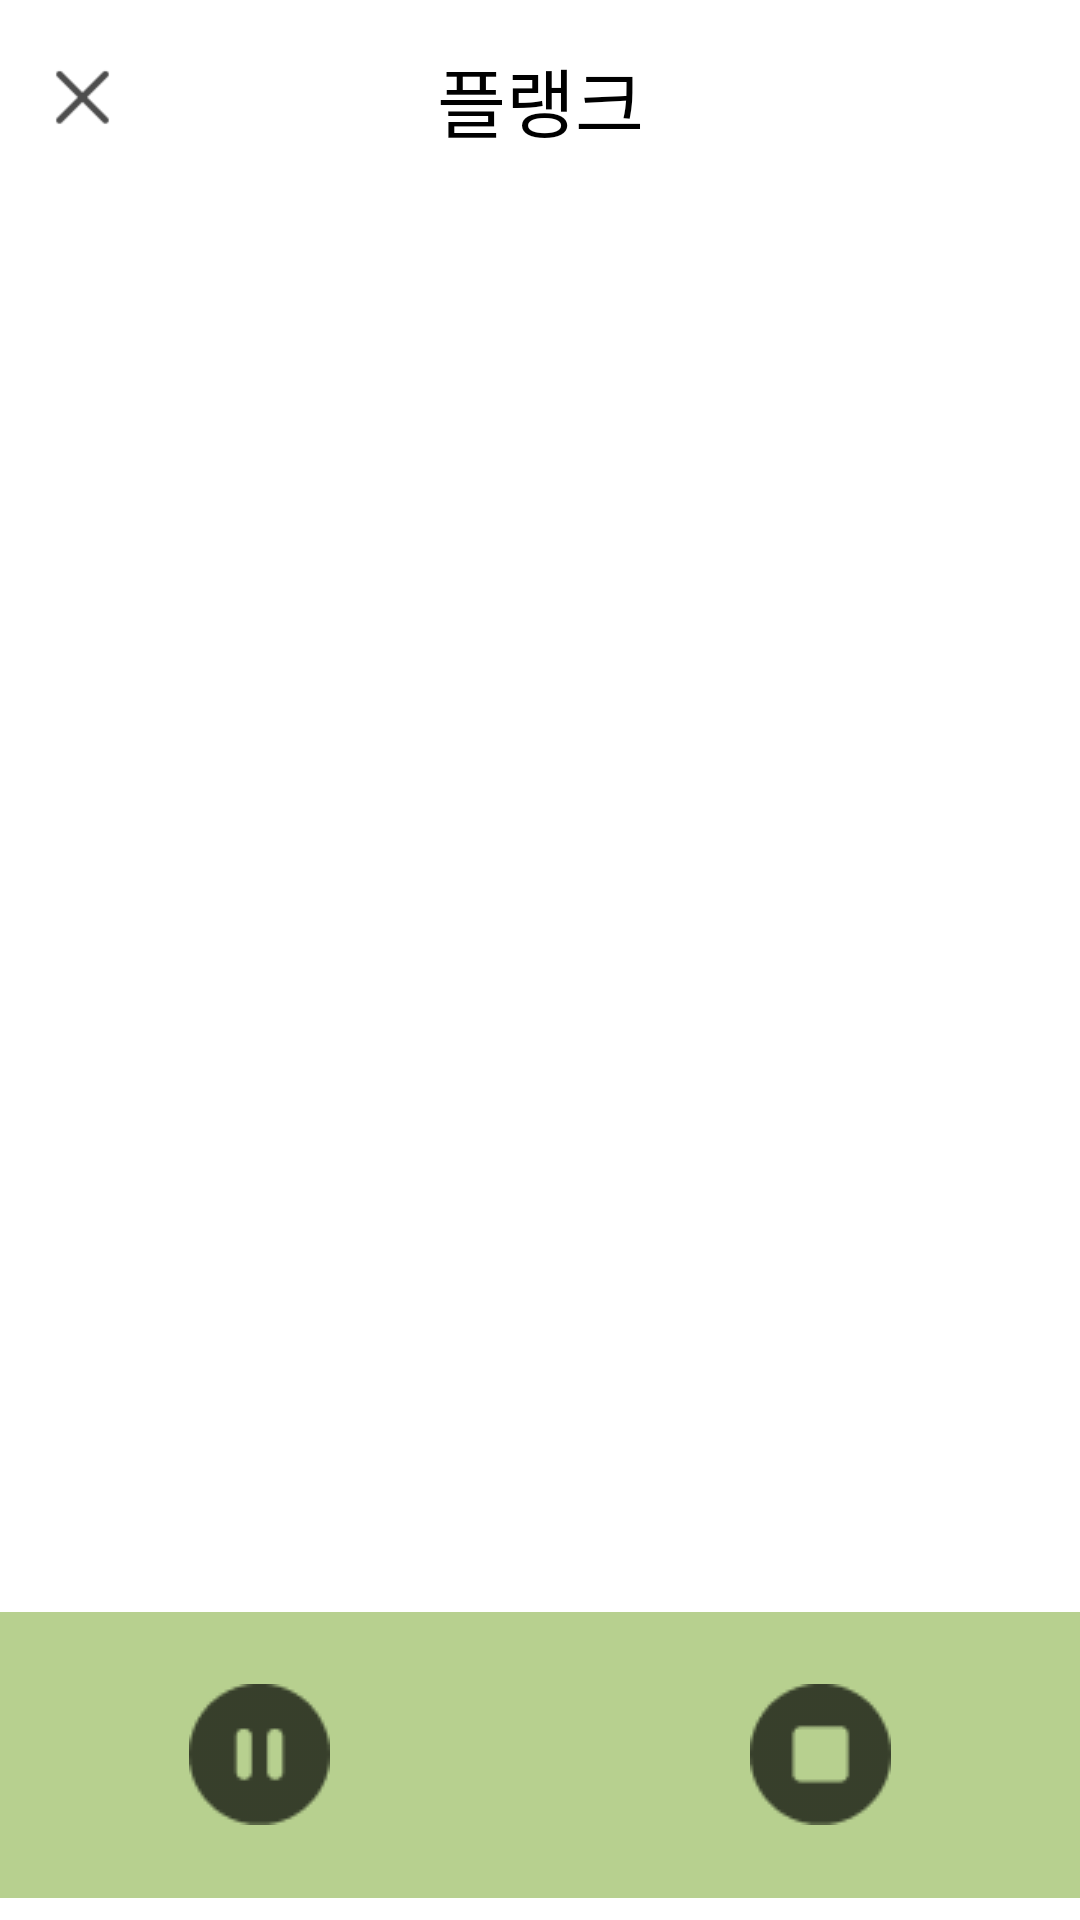

Locate icon controls on the screen. Image size 1080*1920, boxes as bbox(x1, y1, x2, y2).
out: bbox(56, 71, 109, 124)
pause: bbox(189, 1684, 330, 1825)
stop: bbox(750, 1684, 891, 1825)
